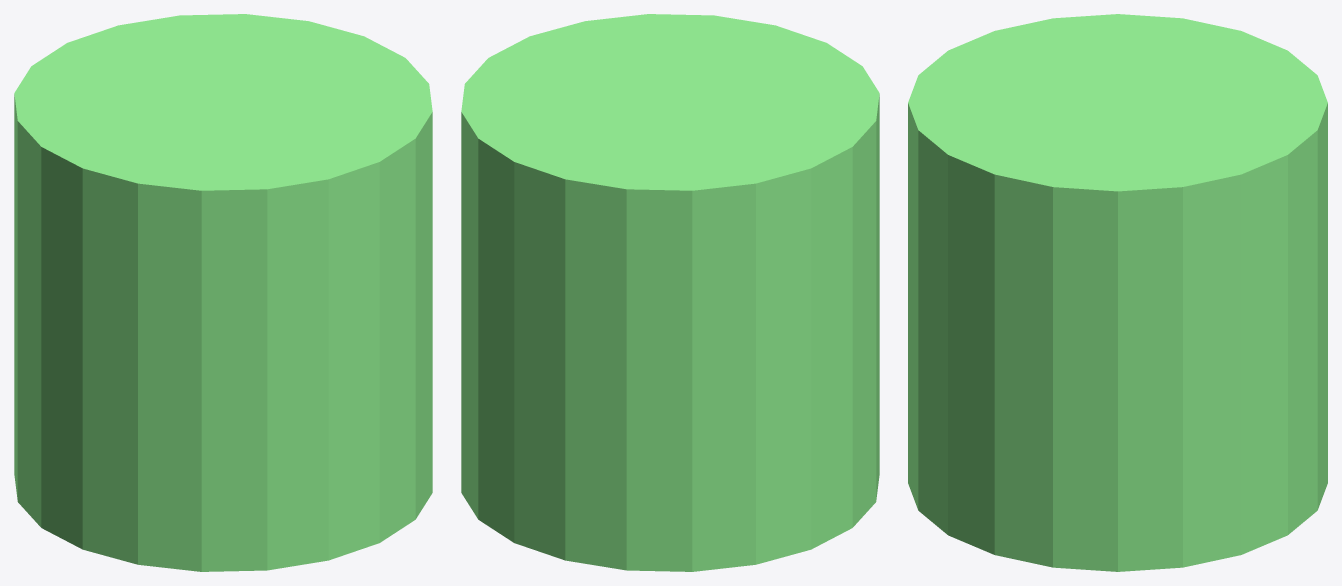
Rendered from WAIST_LINK1_mesh.dae.
The picture shows the model from 3 angles, left to right: view 1: azimuth 30°, elevation 25°; view 2: azimuth 150°, elevation 25°; view 3: azimuth 270°, elevation 25°; orthographic projection.
Visible parts, largest first — view 1: WAIST_LINK1; view 2: WAIST_LINK1; view 3: WAIST_LINK1.
Part boxes in pixels (x1,y1,x2,y2): WAIST_LINK1: (14, 14, 432, 571); WAIST_LINK1: (461, 14, 879, 571); WAIST_LINK1: (908, 14, 1327, 571).
Size of the model in its own units: 0.05 by 0.05 by 0.05.
